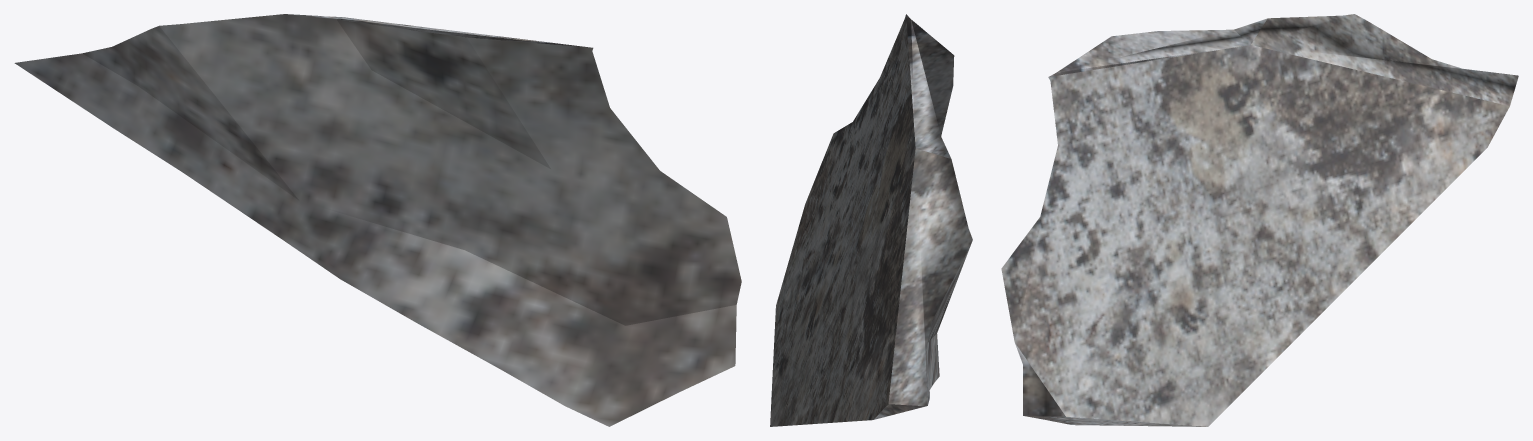
Rendered from Asteroid_Large_001_02_002_03_018.fbx.
3 views of the same model, side by side, from view 1: azimuth 30°, elevation 25°; view 2: azimuth 150°, elevation 25°; view 3: azimuth 270°, elevation 25° (orthographic). The views are drawn at different scales.
Visible parts, largest first — view 1: Asteroid_Large_001_02_002_03_018; view 2: Asteroid_Large_001_02_002_03_018; view 3: Asteroid_Large_001_02_002_03_018.
Boxes of the visible parts, x1,y1,x2,y2 form: Asteroid_Large_001_02_002_03_018: [14, 14, 741, 426]; Asteroid_Large_001_02_002_03_018: [770, 14, 972, 426]; Asteroid_Large_001_02_002_03_018: [1001, 14, 1518, 426].
Bounding box in the file's own units: 8.23 × 7.32 × 10.11.
